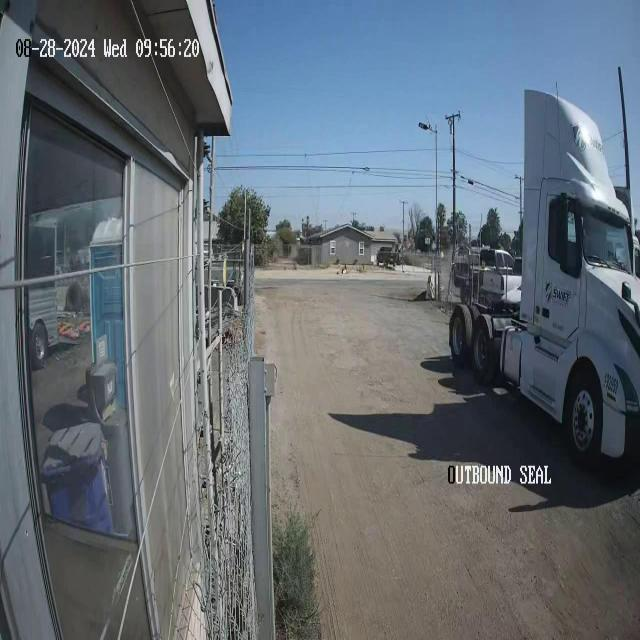TRUCK_IN: (447, 77, 639, 470)
